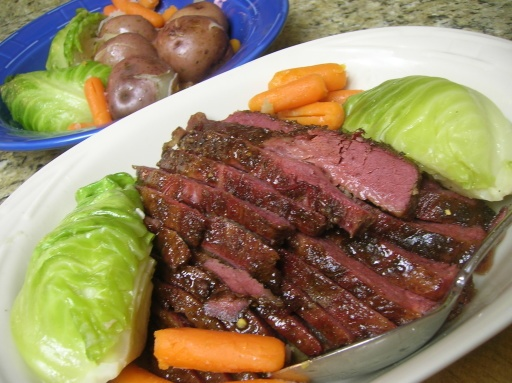background: (8, 37, 409, 229), (0, 0, 184, 80)
